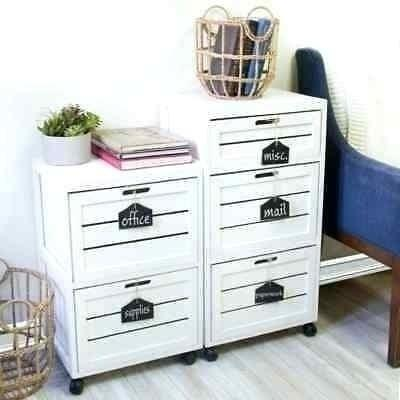cabinet_door: (69, 186, 198, 273), (77, 275, 200, 361), (210, 168, 318, 251), (218, 253, 316, 329), (209, 115, 322, 168)
handle: (253, 114, 286, 129), (123, 277, 152, 294), (118, 186, 154, 199), (251, 169, 284, 183), (253, 255, 281, 270)
